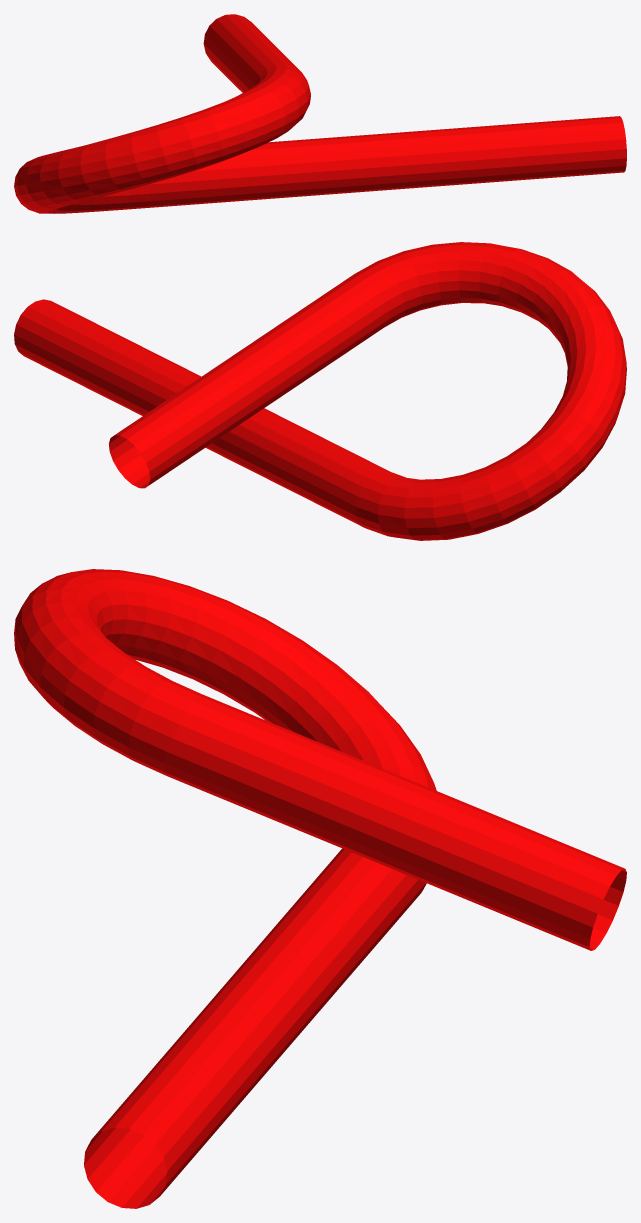
File: alpha_robot.dae
The picture shows the model from 3 angles, top to bottom: view 1: azimuth 30°, elevation 25°; view 2: azimuth 150°, elevation 25°; view 3: azimuth 270°, elevation 25°; orthographic projection. The views are drawn at different scales.
Parts seen in each view (by area): view 1: instance_1 (×26); view 2: instance_1 (×34); view 3: instance_1 (×35).
Part boxes in pixels (box(x1,y1,x2,y2)): instance_1 (×26): box(147, 15, 626, 207); instance_1 (×34): box(14, 274, 390, 527); instance_1 (×35): box(87, 694, 624, 1207).
Bounding box in the file's own units: 62.22 × 37.15 × 19.31.
